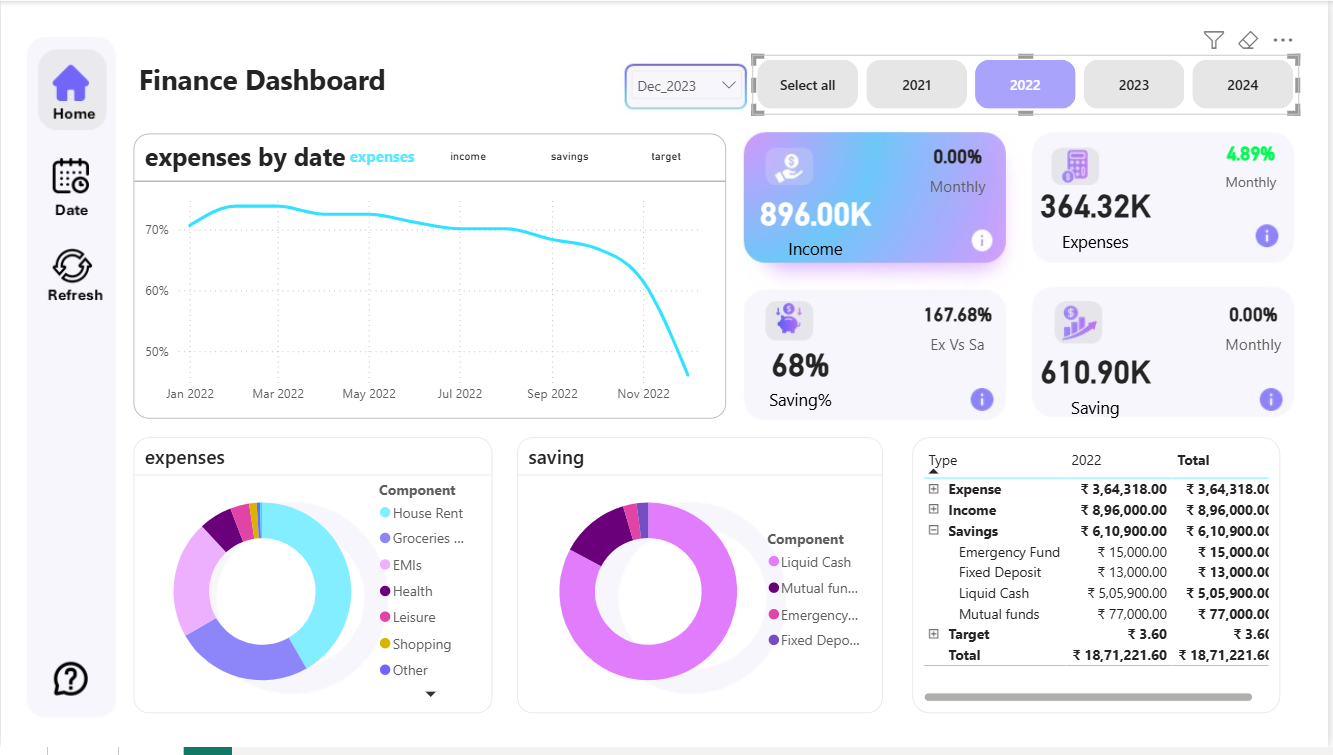

The page's visual inventory and layout, read from the dashboard file:
{"tool":"powerbi","page":{"name":"Page 1","canvas":[1280,720],"ordinal":0},"visuals":[{"type":"card","fields":{"Values":["dataset.income"]},"box":[720.1,167.2,131.8,92.8],"z":0},{"type":"card","fields":{"Values":["dataset.saving"]},"box":[997.1,318.5,119.6,97.6],"z":1000},{"type":"card","fields":{"Values":["dataset.expenses"]},"box":[997.1,155,119.6,105],"z":2000},{"type":"card","fields":{"Values":["dataset.saving%"]},"box":[711.5,312.4,119.6,95.2],"z":3000},{"type":"advancedSlicerVisual","fields":{"Values":["dataset.year"]},"box":[725.1,51.9,527.2,57.9],"z":4000},{"type":"donutChart","title":"saving ","fields":{"Category":["dataset.Component"],"Y":["dataset.saving"]},"box":[498.8,421.2,352.5,266.2],"z":5000},{"type":"donutChart","title":"expenses ","fields":{"Category":["dataset.Component"],"Y":["dataset.expenses"]},"box":[127.5,421.2,346.2,266.2],"z":6000},{"type":"pivotTable","fields":{"Values":["dataset.total_value"],"Rows":["dataset.Type","dataset.Component"],"Columns":["dataset.year"]},"box":[880,421.2,355,266.2],"z":7000},{"type":"lineChart","fields":{"Category":["dataset.date.Variation.Date Hierarchy.Year","dataset.date.Variation.Date Hierarchy.Quarter","dataset.date.Variation.Date Hierarchy.Month","dataset.date.Variation.Date Hierarchy.Day"],"Y":["dataset.line_chart_measures"]},"box":[127.9,127.9,571.9,275.1],"z":8000},{"type":"advancedSlicerVisual","fields":{"Values":["line_selection_Table.type"]},"box":[318.5,119.4,393.3,60.3],"z":9000},{"type":"textbox","box":[127.9,51.9,271.4,57.9],"z":10000},{"type":"slicer","fields":{"Values":["Selected_date.month & year"]},"box":[598.4,56.7,126.7,53.1],"z":10002},{"type":"card","fields":{"Values":["dataset.Expenses_monthly_growth"]},"box":[1160.6,119.4,91.7,74.8],"z":10003},{"type":"card","title":"monthly","fields":{"Values":["dataset.Income_monthly_growth"]},"box":[871.4,128.1,105,65.9],"z":10004},{"type":"card","fields":{"Values":["dataset.Saving_monthly_gr"]},"box":[1147.3,275.1,123.1,76],"z":10005},{"type":"card","fields":{"Values":["dataset.Ex_Vs_Saving"]},"box":[871.1,283.5,105,59.1],"z":10006}]}

Visuals, with their boxes on the page's 1280x720 design canvas (x1, y1, x2, y2). These are canvas units, not pixel positions in the 1333x755 screenshot, which may show the page scaled, cropped or inside an application window:
card - dataset.income: 720, 167, 852, 260
card - dataset.saving: 997, 318, 1117, 416
card - dataset.expenses: 997, 155, 1117, 260
card - dataset.saving%: 712, 312, 831, 408
advancedSlicerVisual - dataset.year: 725, 52, 1252, 110
"saving " donutChart: 499, 421, 851, 687
"expenses " donutChart: 128, 421, 474, 687
pivotTable - dataset.total_value x dataset.Type: 880, 421, 1235, 687
lineChart - dataset.date.Variation.Date Hierarchy.Year x dataset.date.Variation.Date Hierarchy.Quarter: 128, 128, 700, 403
advancedSlicerVisual - line_selection_Table.type: 318, 119, 712, 180
textbox: 128, 52, 399, 110
slicer - Selected_date.month & year: 598, 57, 725, 110
card - dataset.Expenses_monthly_growth: 1161, 119, 1252, 194
"monthly" card: 871, 128, 976, 194
card - dataset.Saving_monthly_gr: 1147, 275, 1270, 351
card - dataset.Ex_Vs_Saving: 871, 284, 976, 343
